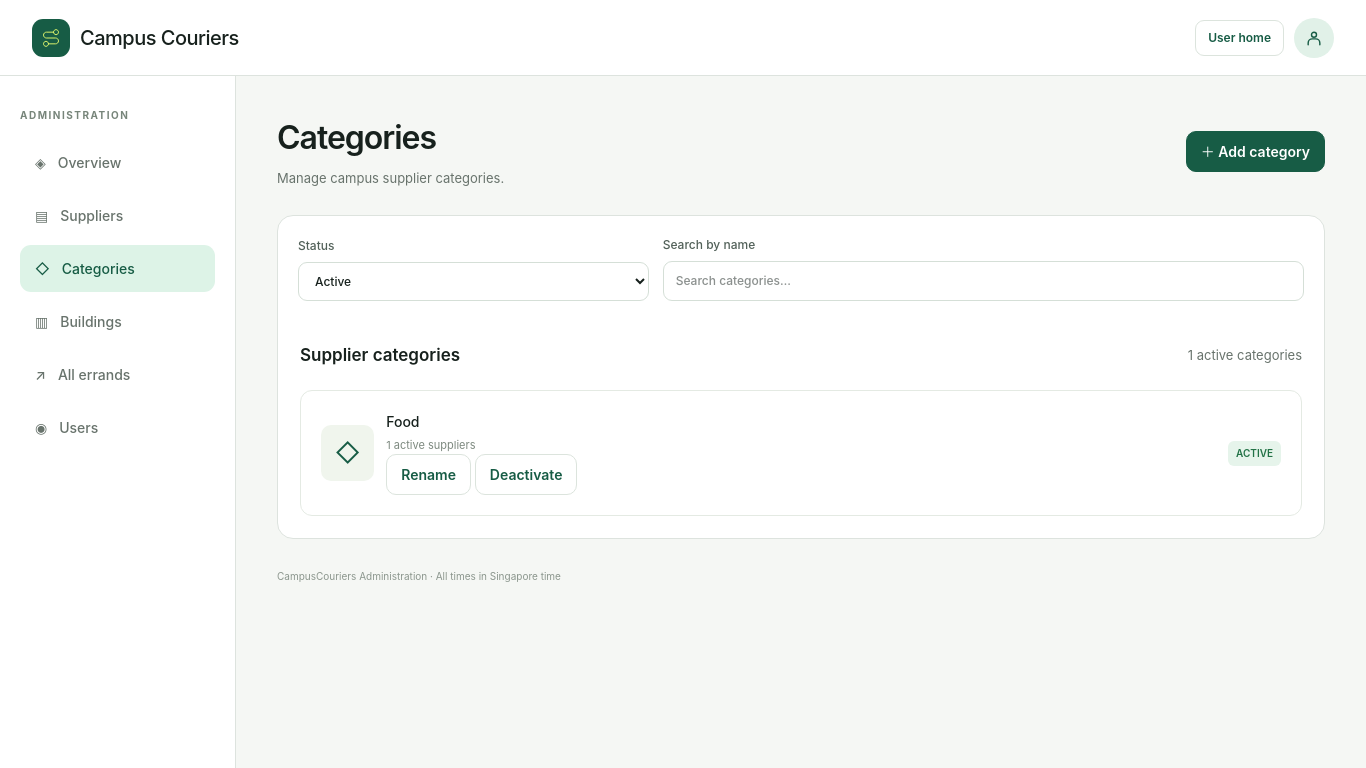
Test: Admin dashboard supplier integration › searches categories by name and provides a visible user-home link
Expected: the text "Food" is shown, [386,413,420,430]
Type "printing" into the search field labelled "Search by name" at x=983, y=281, box [663,261,1304,301]
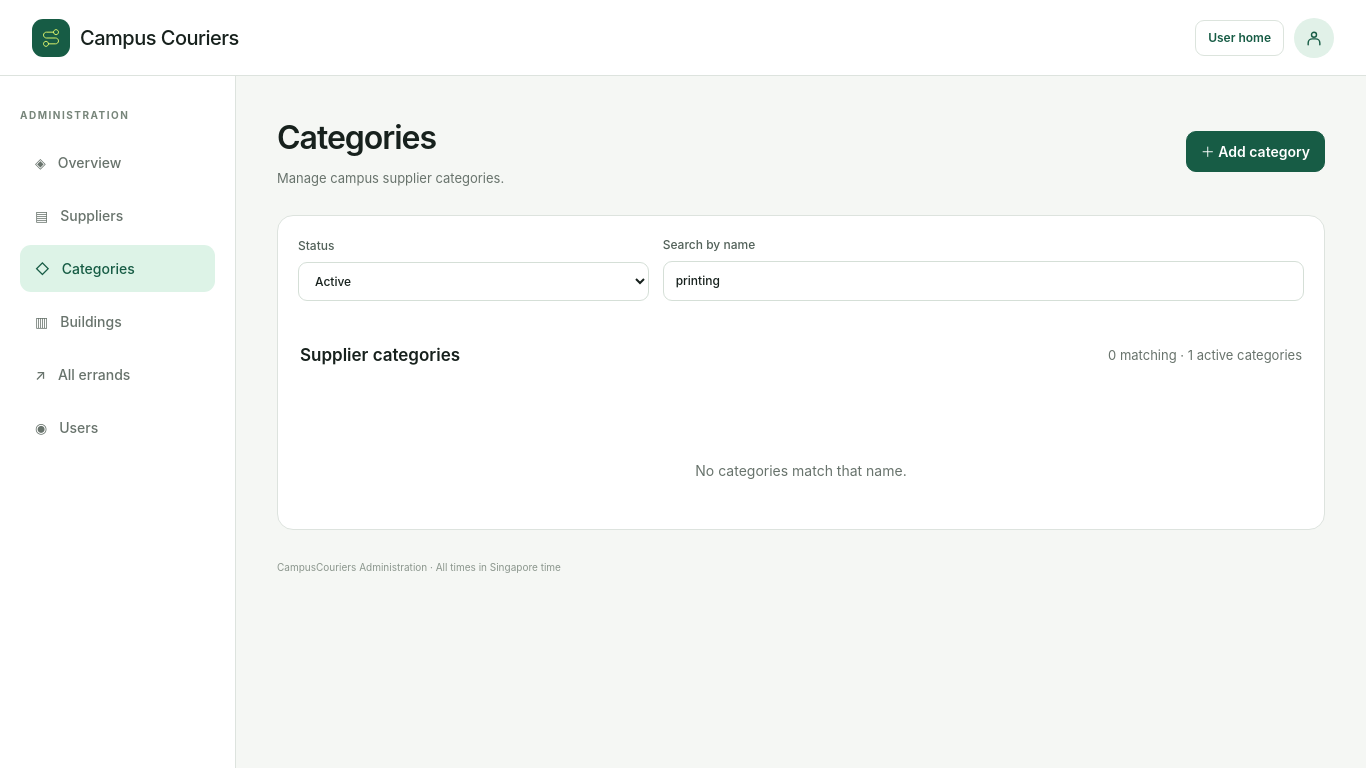
Result: the text "Food" is gone
Result: the text "No categories match that name." is shown at [695,462,907,479]
